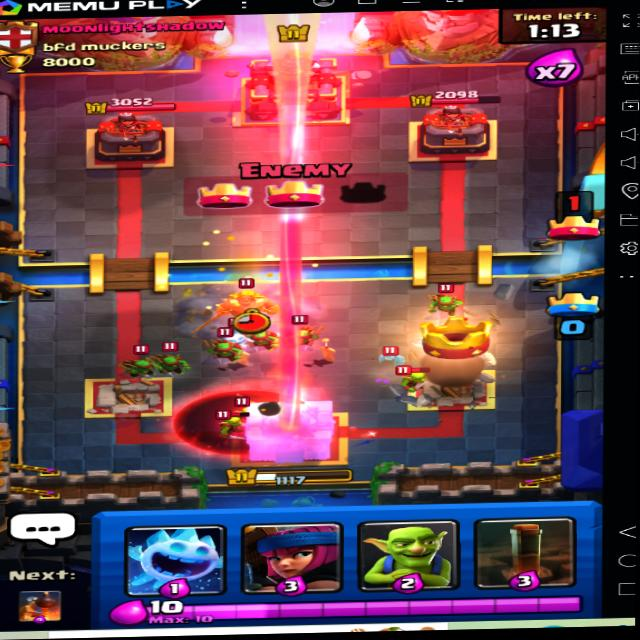goblin: (210, 409, 248, 436), (402, 362, 433, 390)
golden-knight: (198, 278, 282, 333)
ice-spirit: (215, 324, 258, 353)
spear-goblin: (423, 284, 470, 318), (289, 321, 331, 351), (152, 344, 189, 376), (123, 352, 157, 382), (211, 338, 247, 359), (253, 328, 278, 351)
void: (176, 387, 307, 454)
